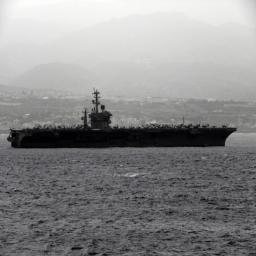Portanaves: (6, 87, 241, 152)
